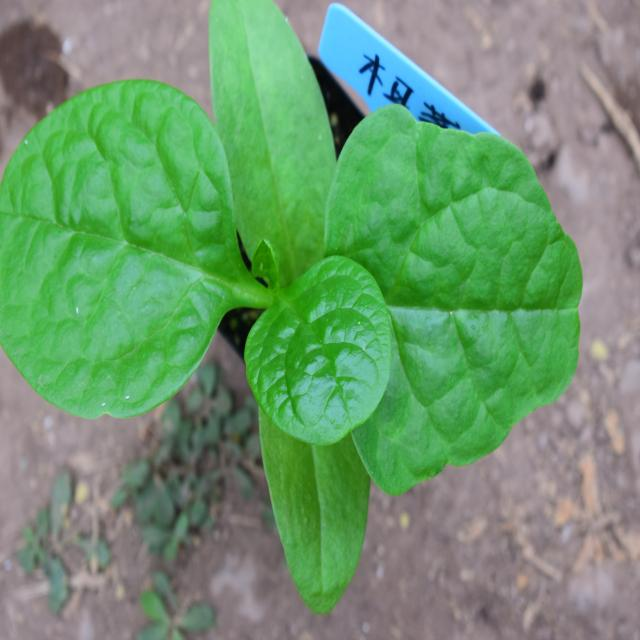Ceylon spinach: (0, 57, 589, 500)
